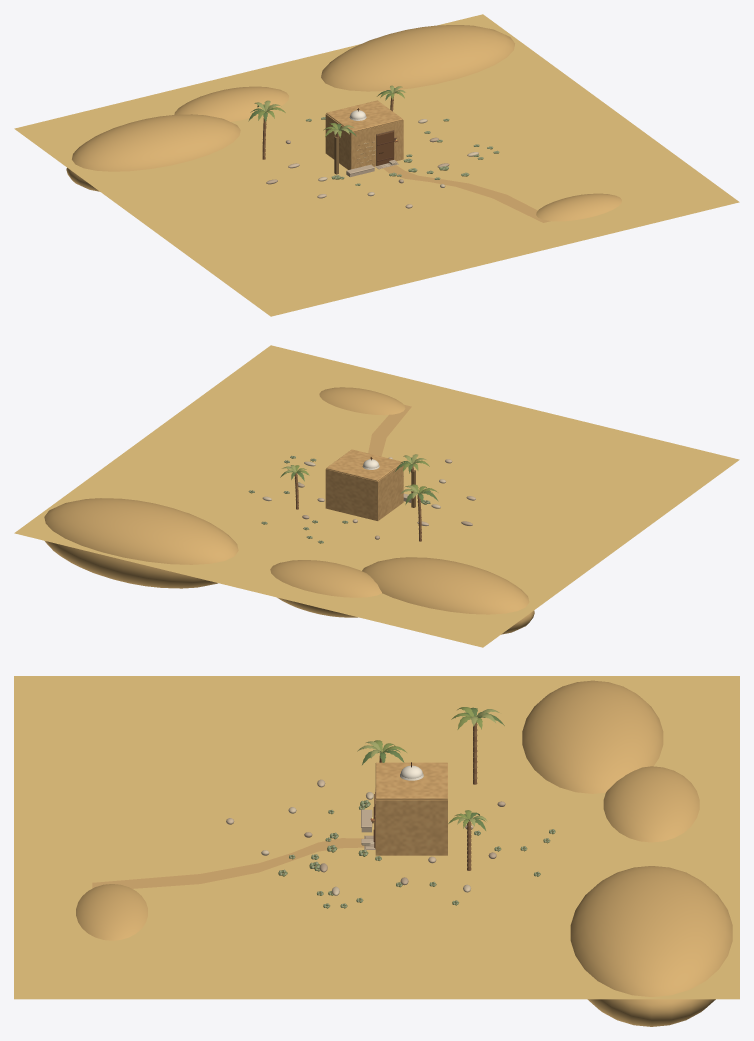
File: scetis-cell.glb
3 views of the same model, one above another, from view 1: azimuth 30°, elevation 25°; view 2: azimuth 150°, elevation 25°; view 3: azimuth 270°, elevation 25° (orthographic). The views are drawn at different scales.
Parts seen in each view (by area): view 1: ground, scetis-cell, chilie, col:fațadă-stânga, door:cell; view 2: ground, scetis-cell, chilie, col:spate; view 3: ground, scetis-cell, chilie, col:lateral4.2.
Part boxes in pixels (box(x1,y1,x2,y2)): ground: box(14, 14, 739, 316); scetis-cell: box(66, 25, 621, 222); chilie: box(326, 100, 402, 169); col:fațadă-stânga: box(352, 126, 376, 168); door:cell: box(376, 131, 393, 165); ground: box(14, 345, 739, 647); scetis-cell: box(44, 387, 534, 634); chilie: box(326, 449, 403, 519); col:spate: box(326, 469, 376, 520); ground: box(14, 676, 739, 999); scetis-cell: box(76, 680, 732, 1026); chilie: box(361, 762, 447, 854); col:lateral4.2: box(375, 799, 447, 855).
Size of the model in its own units: 78.25 by 14.87 by 74.
Materials: 33 (1 with a texture image).
